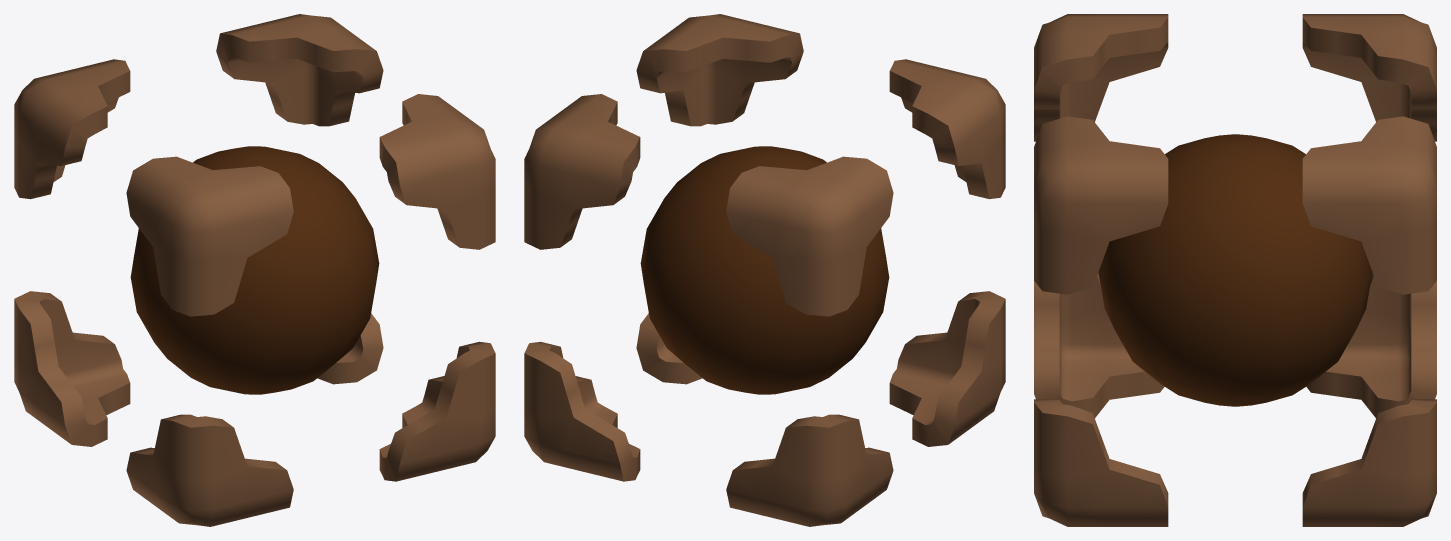
Rendered from quaternius-ultimate-space-pack-pickup-sphere-transformed.glb.
The picture shows the model from 3 angles, left to right: view 1: azimuth 30°, elevation 25°; view 2: azimuth 150°, elevation 25°; view 3: azimuth 270°, elevation 25°; orthographic projection. The views are drawn at different scales.
Parts seen in each view (by area): view 1: Pickup_Sphere; view 2: Pickup_Sphere; view 3: Pickup_Sphere.
Part boxes in pixels (x1,y1,x2,y2): Pickup_Sphere: (14, 14, 495, 526); Pickup_Sphere: (524, 14, 1005, 526); Pickup_Sphere: (1034, 14, 1436, 526).
Size of the model in its own units: 0.8856 by 0.8856 by 0.8856.
Materials: 1 (1 with a texture image).
